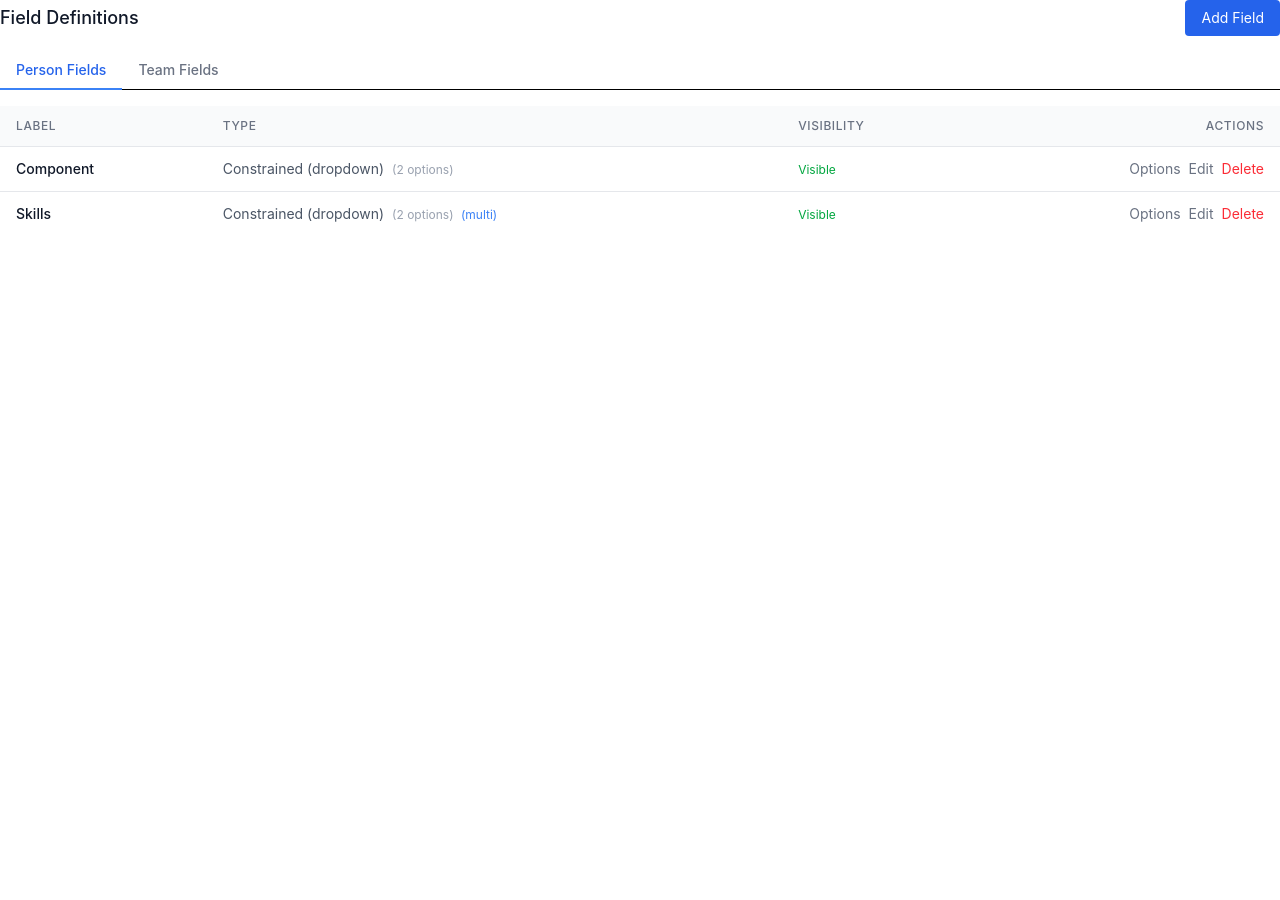
Test: FieldDefinitionManager › shows multiValue checkbox when type is constrained in create modal
Note: Open create modal
Click the button "Add Field".
click(1233, 18)  # box [1186,0,1279,36]
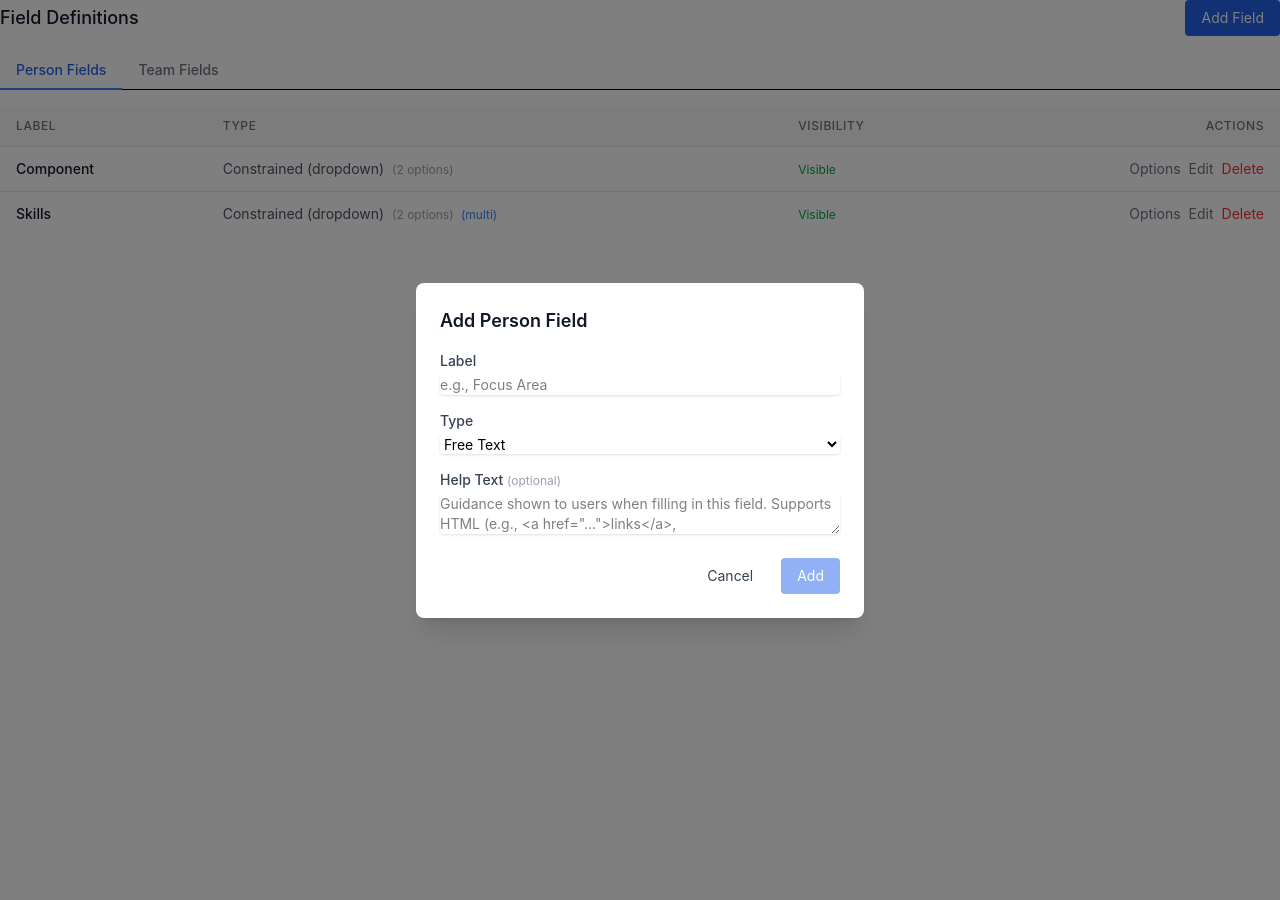
Note: Change type to constrained
Select "Constrained (dropdown)" in the dropdown at coordinates (640, 444), box [440,434,840,454]
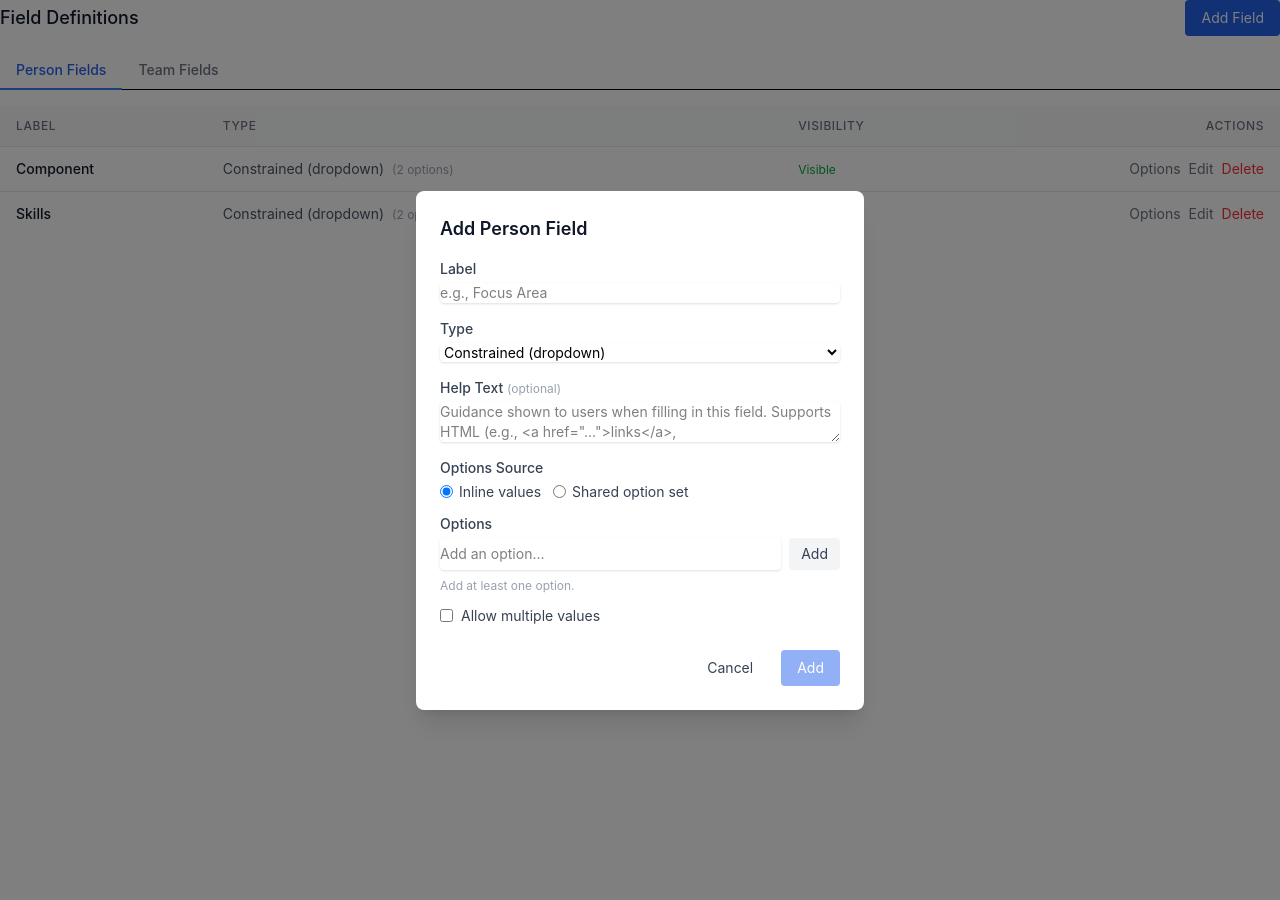
Now the text "Allow multiple values" is shown, box [461,606,600,626]
